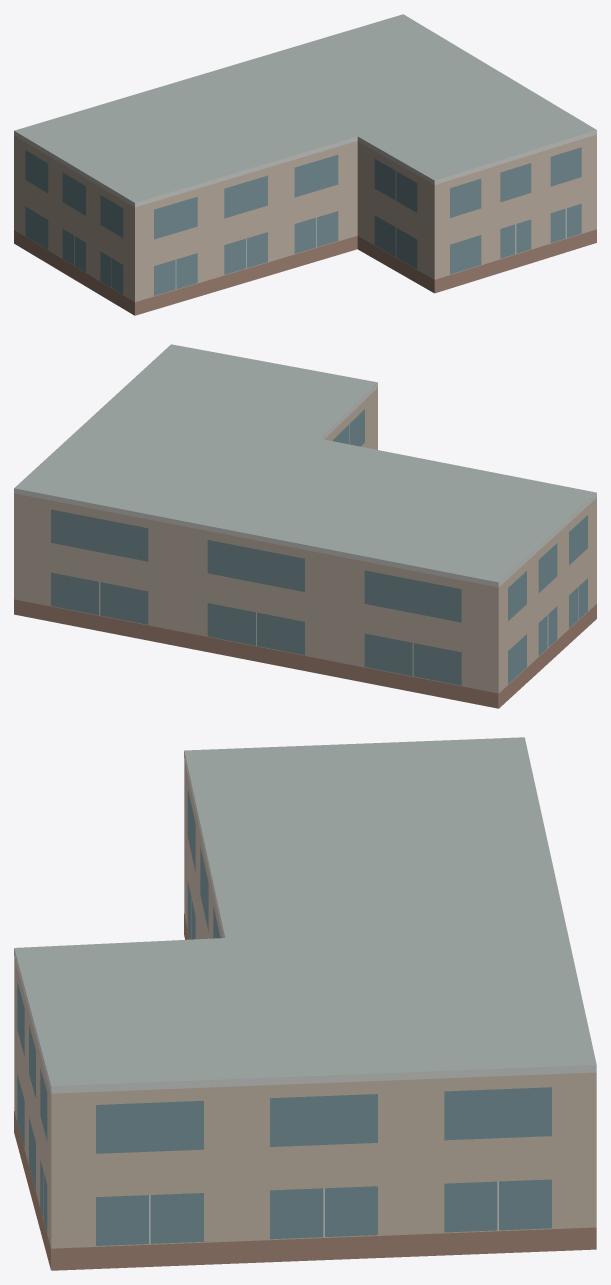
The model's file is survey-upis-32950482.glb.
3 views of the same model, one above another, from view 1: azimuth 30°, elevation 25°; view 2: azimuth 150°, elevation 25°; view 3: azimuth 270°, elevation 25° (orthographic). The views are drawn at different scales.
Parts seen in each view (by area): view 1: survey-upis-32950482.tmp; view 2: survey-upis-32950482.tmp; view 3: survey-upis-32950482.tmp.
Part boxes in pixels (left/top/right/bottom): survey-upis-32950482.tmp: left=14, top=14, right=596, bottom=315; survey-upis-32950482.tmp: left=14, top=344, right=596, bottom=708; survey-upis-32950482.tmp: left=14, top=737, right=596, bottom=1270.
Size of the model in its own units: 24.78 by 6.1 by 17.48.
